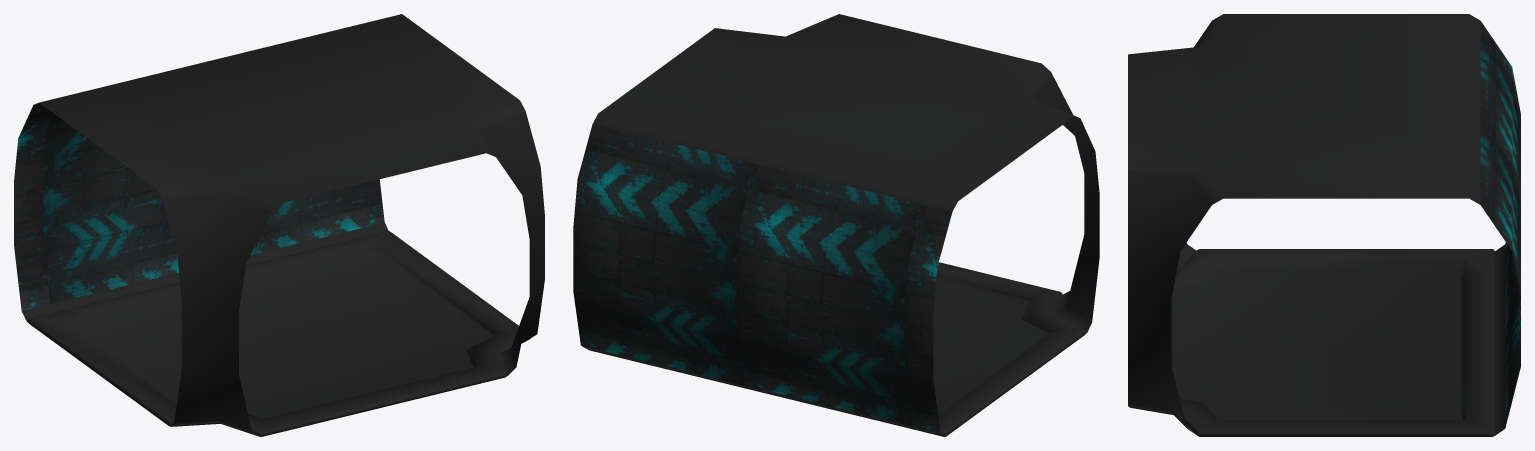
Rendered from corridor_crossing.fbx.
3 renders of one model, left to right at view 1: azimuth 30°, elevation 25°; view 2: azimuth 150°, elevation 25°; view 3: azimuth 270°, elevation 25°, orthographic. The views are drawn at different scales.
Parts seen in each view (by area): view 1: corridor_crossing, corridor_crossing.001; view 2: corridor_crossing, corridor_crossing.001; view 3: corridor_crossing, corridor_crossing.001.
Part boxes in pixels (x1=…): corridor_crossing: x1=14, y1=14, x2=544, y2=436; corridor_crossing.001: x1=27, y1=231, x2=530, y2=436; corridor_crossing: x1=573, y1=14, x2=1099, y2=436; corridor_crossing.001: x1=587, y1=262, x2=1086, y2=436; corridor_crossing: x1=1128, y1=14, x2=1520, y2=435; corridor_crossing.001: x1=1129, y1=249, x2=1494, y2=436.
Bounding box in the file's own units: 500 × 303 × 450.
